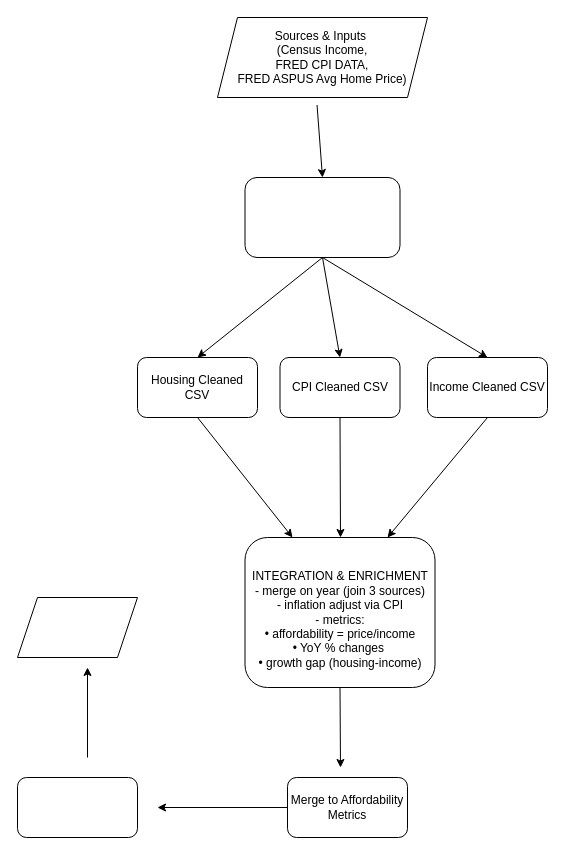
Image size: 565x855. Some labels were removed from this diagram. Each missing label, with the centre of its shape:
"Analysis & Output" goes at (x=77, y=627).
"Analysis & Visualizations" goes at (x=77, y=807).
"Cleaning & Standardization (parsing dates, headers, annualizing CPI data)" goes at (x=322, y=217).
